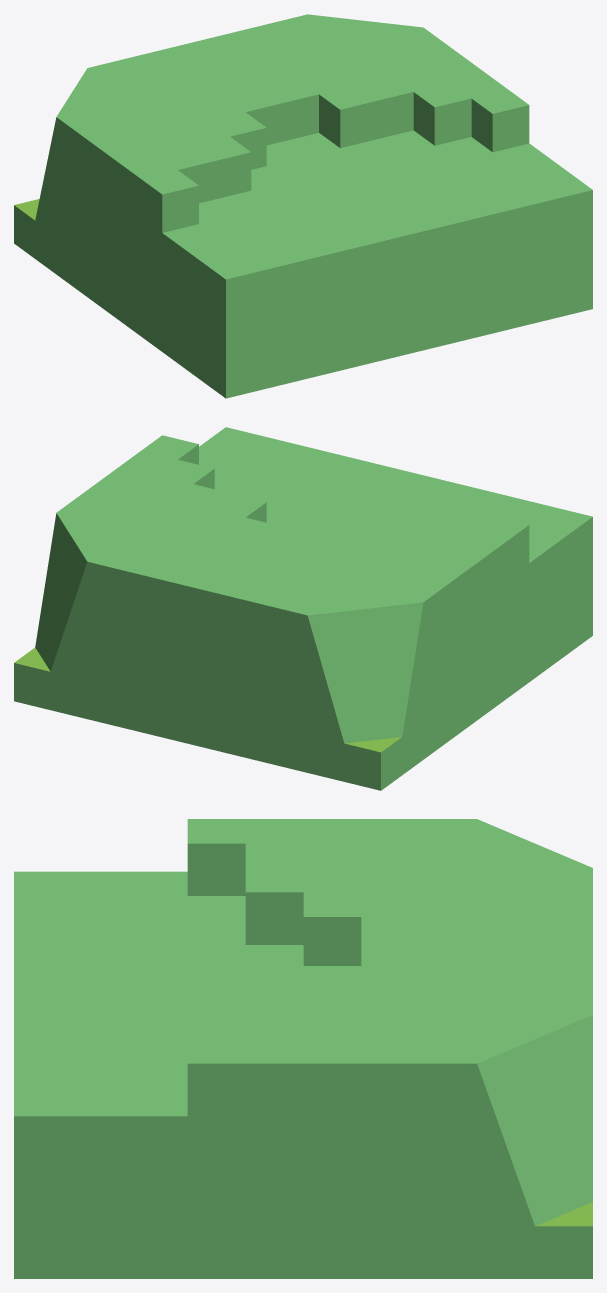
File: x_zem_1_4_1_rmstrd.fbx
The picture shows the model from 3 angles, top to bottom: view 1: azimuth 30°, elevation 25°; view 2: azimuth 150°, elevation 25°; view 3: azimuth 270°, elevation 25°; orthographic projection. The views are drawn at different scales.
Parts seen in each view (by area): view 1: x_zem_1_4_rmstrd1; view 2: x_zem_1_4_rmstrd1; view 3: x_zem_1_4_rmstrd1.
Boxes of the visible parts, <box> form: x_zem_1_4_rmstrd1: <box>14,14,592,398</box>; x_zem_1_4_rmstrd1: <box>14,427,592,790</box>; x_zem_1_4_rmstrd1: <box>14,819,592,1278</box>.
Bounding box in the file's own units: 10 × 4.1 × 10.
